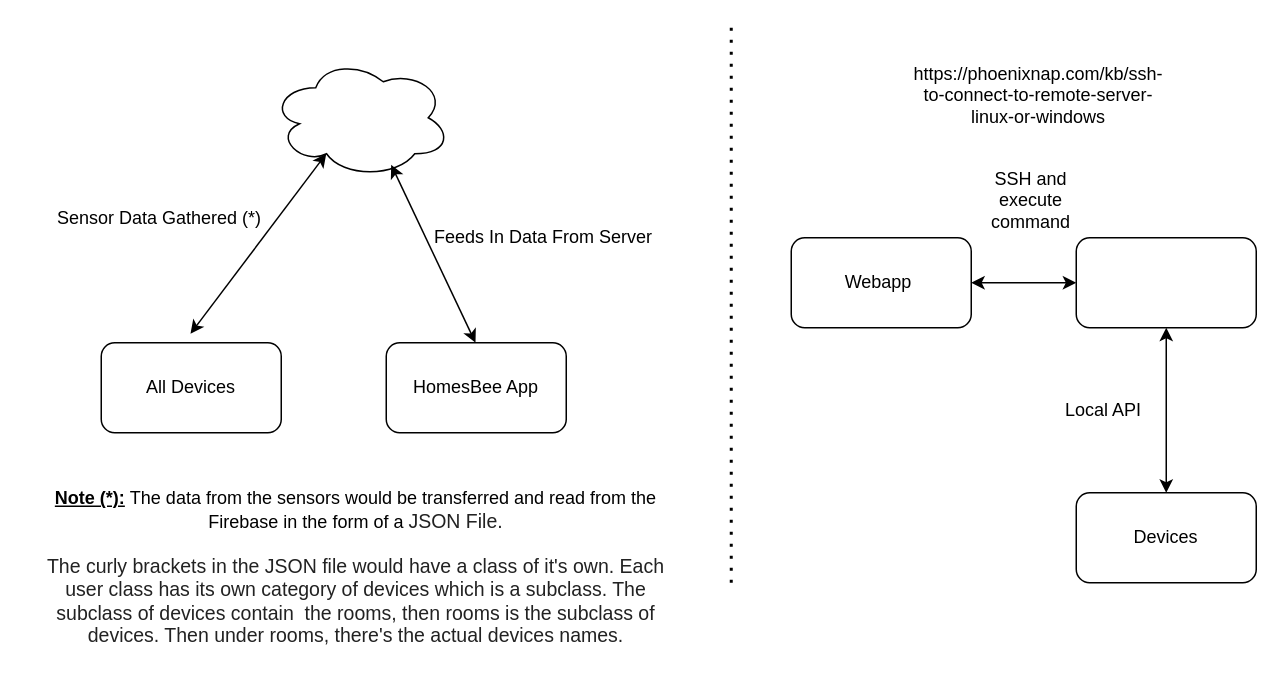
This 1283x683 diagram has some shape labels left out. Each missing label, with the centre of its shape:
FIREBASE: [360,117]
Local server: [1165,282]
